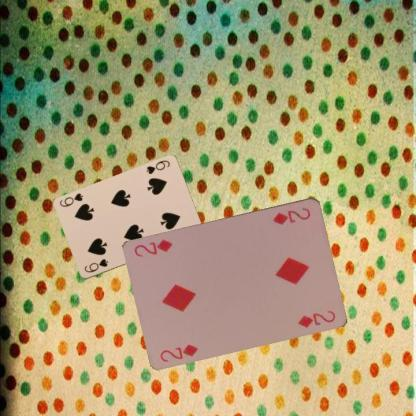2d: (158, 340, 199, 363), (270, 204, 312, 226)
6s: (143, 158, 171, 176), (82, 256, 109, 274)
